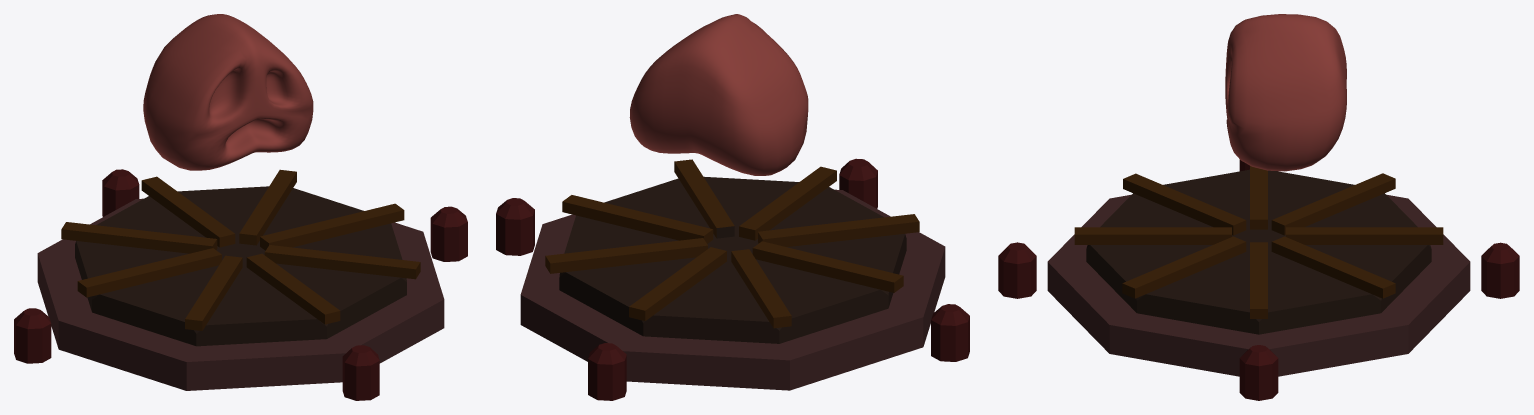
File: T. Spawner.fbx
The picture shows the model from 3 angles, left to right: view 1: azimuth 30°, elevation 25°; view 2: azimuth 150°, elevation 25°; view 3: azimuth 270°, elevation 25°; orthographic projection. The views are drawn at different scales.
Visible parts, largest first — view 1: Fogata, Base.003, Cabeza, Extra; view 2: Fogata, Base.003, Cabeza, Extra; view 3: Fogata, Base.003, Cabeza, Extra.
Part boxes in pixels (bbox=[...]): Fogata: bbox=[61, 169, 420, 346]; Base.003: bbox=[37, 198, 444, 390]; Cabeza: bbox=[143, 14, 313, 170]; Extra: bbox=[14, 169, 467, 400]; Fogata: bbox=[545, 159, 919, 343]; Base.003: bbox=[520, 189, 945, 390]; Cabeza: bbox=[629, 14, 808, 175]; Extra: bbox=[496, 158, 969, 400]; Fogata: bbox=[1074, 166, 1443, 334]; Base.003: bbox=[1047, 194, 1470, 376]; Cabeza: bbox=[1225, 14, 1346, 171]; Extra: bbox=[998, 159, 1519, 400].
Bounding box in the file's own units: 543 × 316 × 543.
